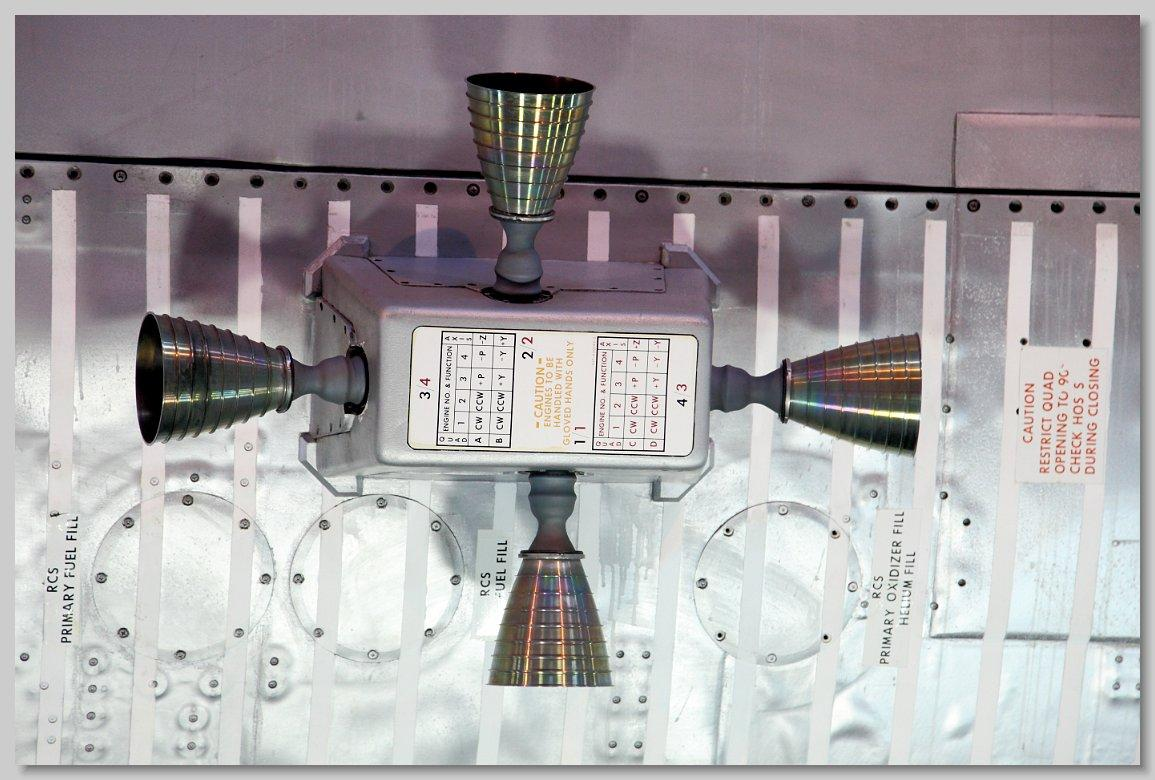thruster: (131, 304, 371, 452), (487, 468, 621, 689), (459, 72, 598, 283), (723, 324, 924, 458)
